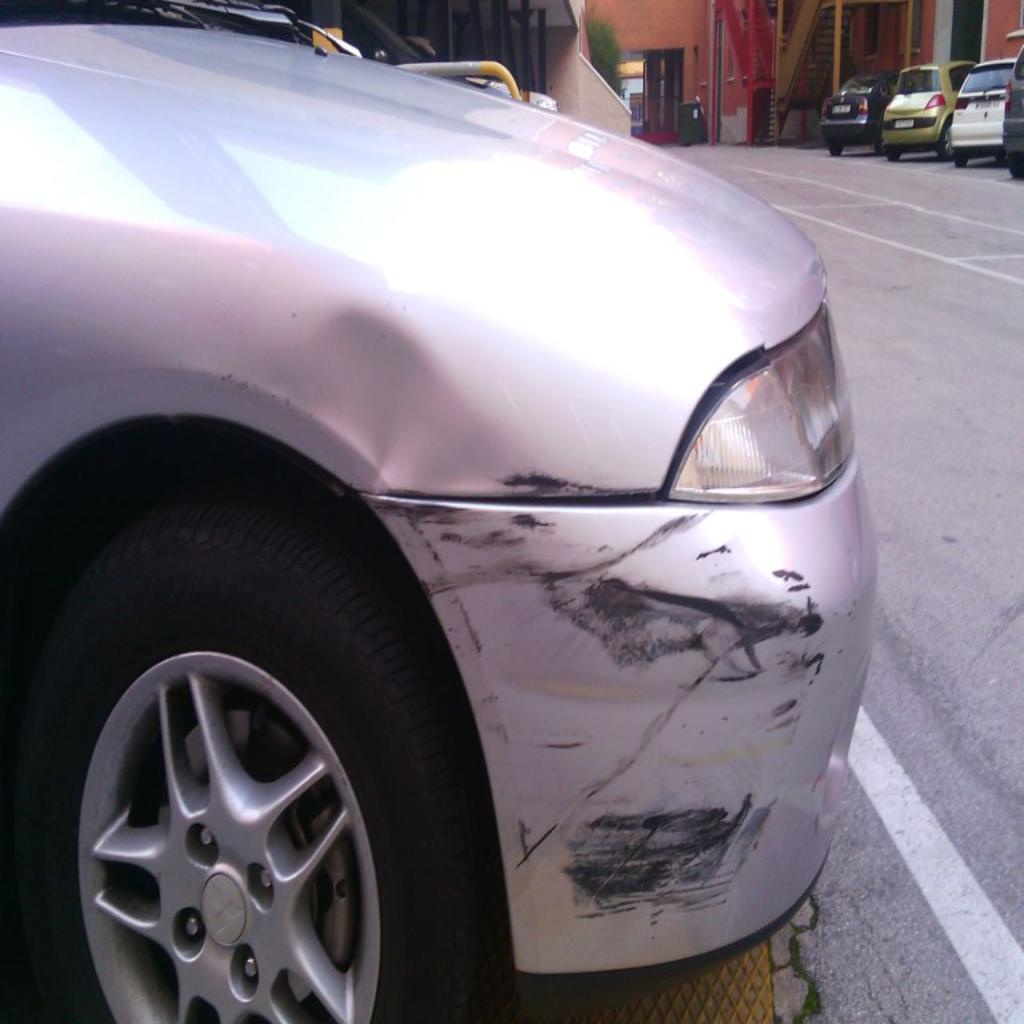Dent: (311, 293, 548, 526)
Scratch: (477, 543, 836, 724), (563, 804, 779, 926)
